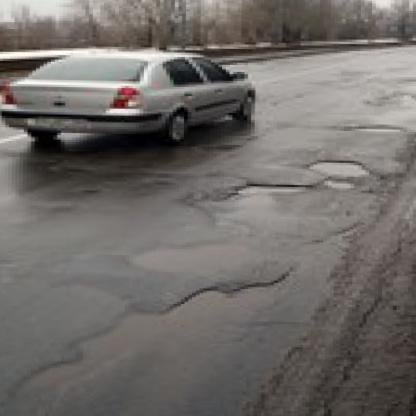pothole: (125, 236, 260, 275), (302, 159, 373, 179), (231, 181, 313, 194), (340, 124, 407, 134), (320, 178, 357, 190)
